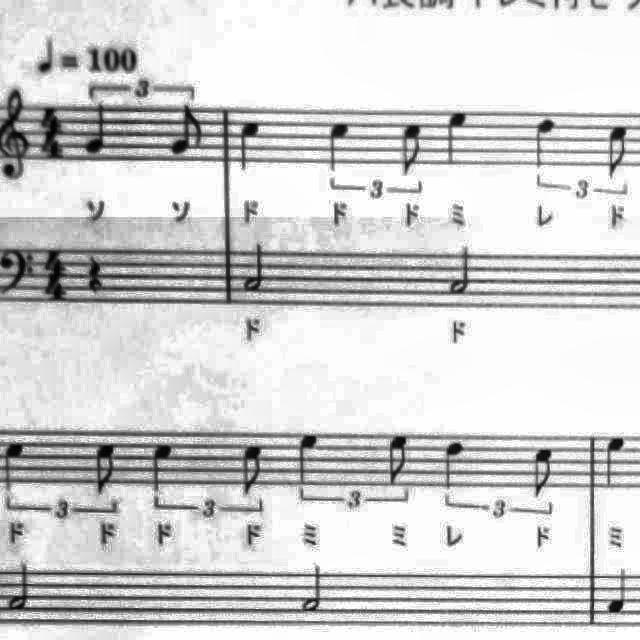Bass-clef: (1, 229, 36, 303)
Eighth-note: (164, 101, 208, 163), (392, 115, 432, 182), (598, 117, 636, 185), (88, 438, 126, 502), (233, 438, 270, 500), (380, 430, 416, 490), (526, 441, 560, 503)
Half-note: (237, 238, 273, 298), (4, 559, 41, 617), (442, 241, 478, 299), (297, 560, 331, 620)
Quarter-note: (439, 105, 476, 172), (525, 110, 563, 173), (290, 428, 326, 494), (319, 114, 356, 178), (232, 114, 268, 178), (145, 436, 183, 496), (438, 434, 472, 494), (597, 432, 631, 492), (604, 562, 638, 618), (1, 434, 32, 494), (82, 102, 114, 158)
Quarter-rest: (82, 249, 110, 299)
Treble-clef: (0, 82, 34, 186)
